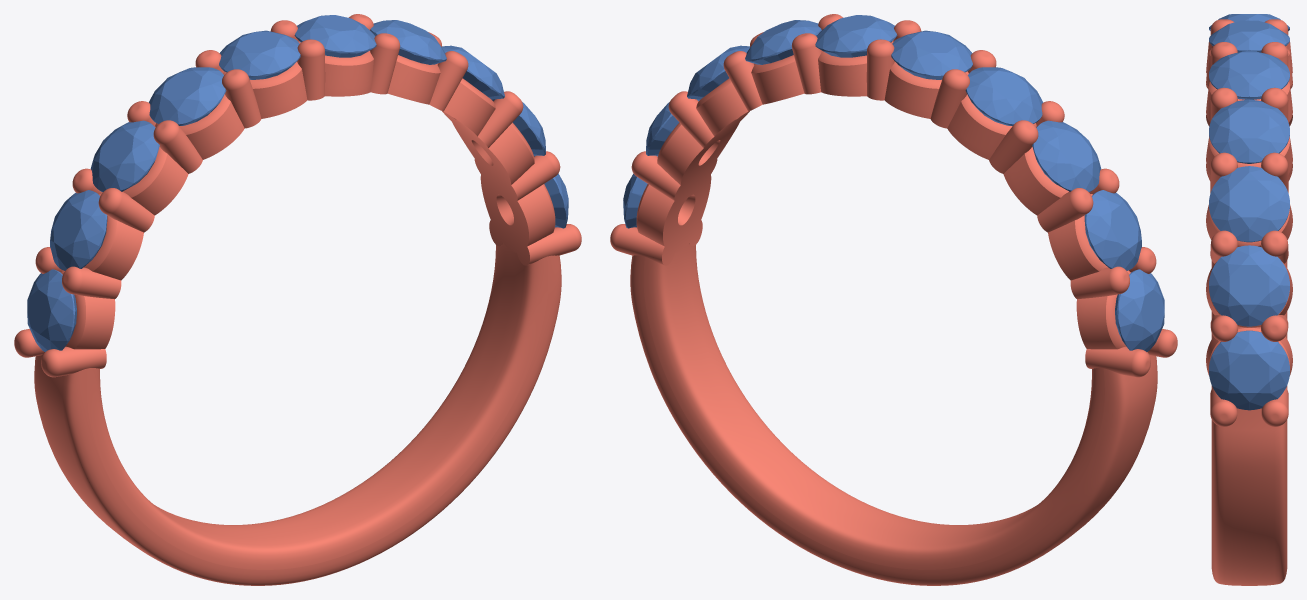
The picture shows the model from 3 angles, left to right: view 1: azimuth 30°, elevation 25°; view 2: azimuth 150°, elevation 25°; view 3: azimuth 270°, elevation 25°; orthographic projection. The views are drawn at different scales.
Visible parts, largest first — view 1: Render.3dm, Gem (×10); view 2: Render.3dm, Gem (×10); view 3: Gem (×7), Render.3dm.
Part boxes in pixels (bbox=[...]): Render.3dm: bbox=[14, 14, 581, 585]; Gem (×10): bbox=[27, 15, 568, 351]; Render.3dm: bbox=[610, 14, 1177, 585]; Gem (×10): bbox=[623, 15, 1164, 351]; Gem (×7): bbox=[1209, 14, 1289, 410]; Render.3dm: bbox=[1206, 19, 1292, 585].
Size of the model in its own units: 2.86 by 2.76 by 0.4196.
